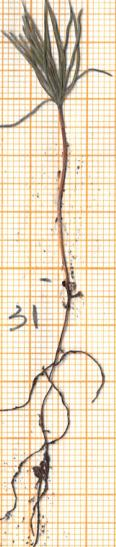flower: (0, 2, 82, 107)
root: (0, 283, 108, 547)
stem: (49, 106, 78, 282)
